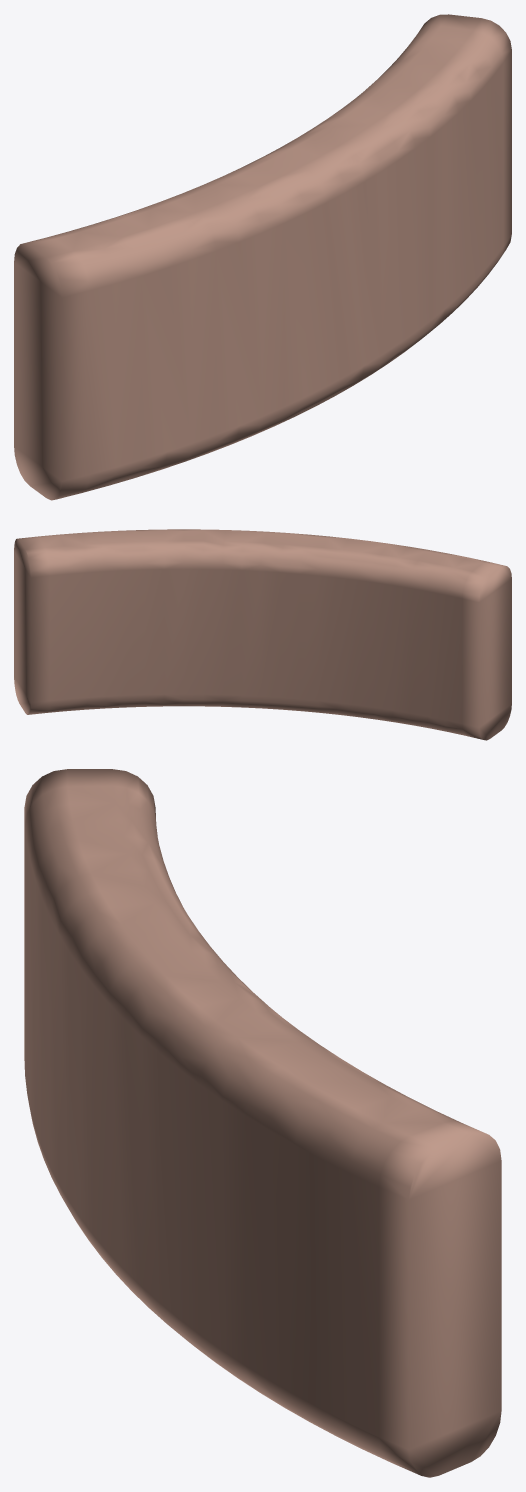
Rendered from ArcParapet_R2_A45.glb.
3 views of the same model, one above another, from view 1: azimuth 30°, elevation 25°; view 2: azimuth 150°, elevation 25°; view 3: azimuth 270°, elevation 25° (orthographic). The views are drawn at different scales.
Parts seen in each view (by area): view 1: PBK_Parapet.014; view 2: PBK_Parapet.014; view 3: PBK_Parapet.014.
Boxes of the visible parts, x1,y1,x2,y2 form: PBK_Parapet.014: [14, 14, 511, 500]; PBK_Parapet.014: [14, 529, 511, 740]; PBK_Parapet.014: [24, 769, 501, 1477].
Bounding box in the file's own units: 1.41 × 0.55 × 0.7272.
